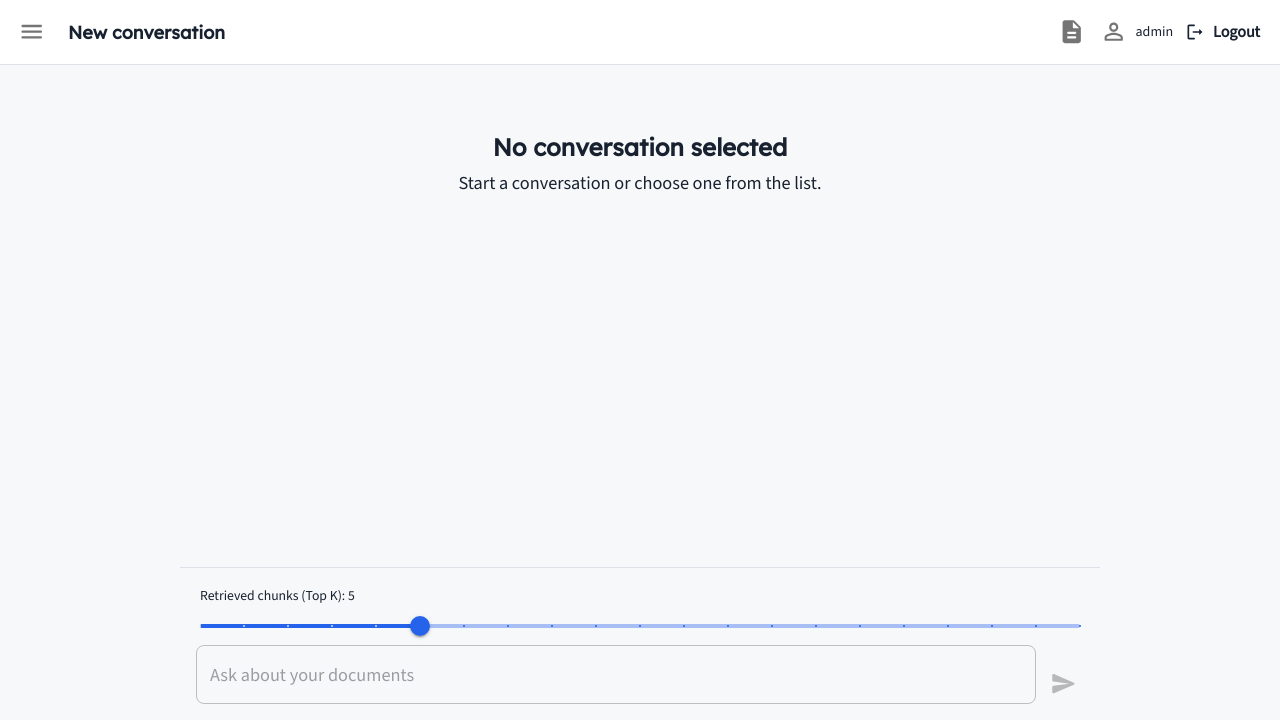
Scenario: authentication flow › expires the UI session when streamed chat setup returns 401
The image size is (1280, 720).
Expected: the text "admin" is shown, [1136,22,1173,42]
Type "Question" into the text box named "Question" at (616, 674), box [210,662,1022,688]
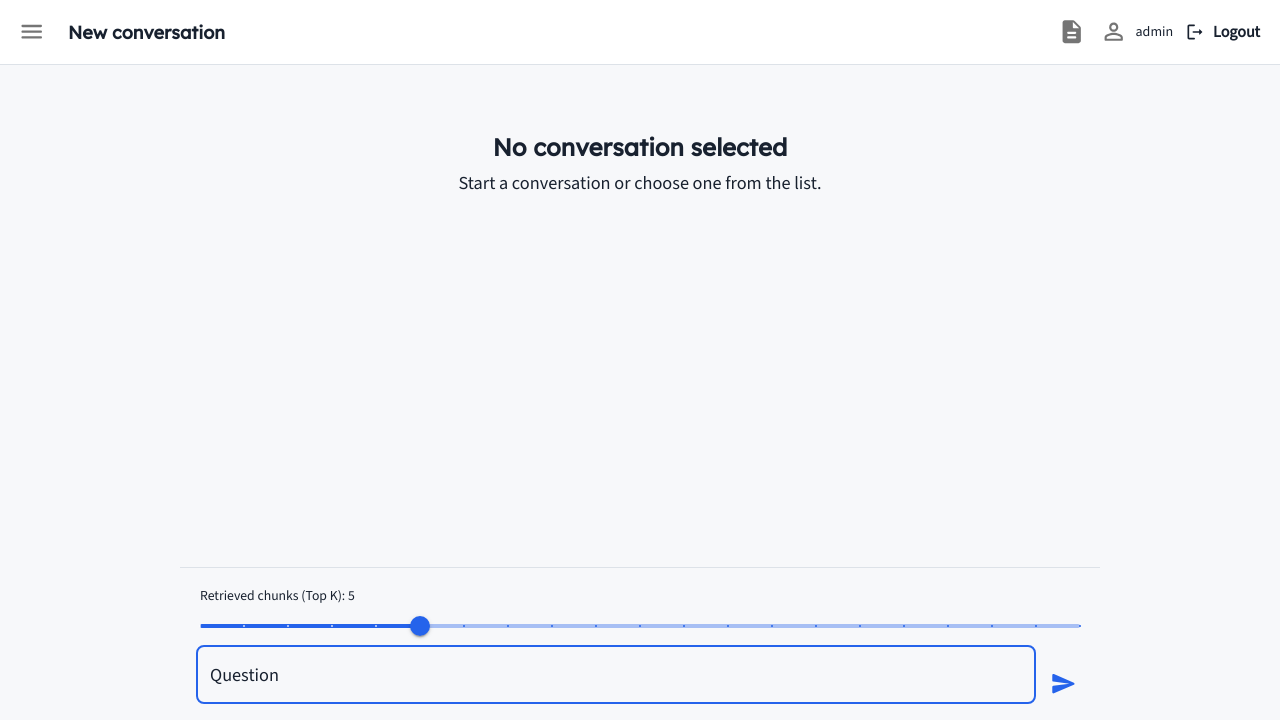
Click the button named "Send message" at (1064, 684), box [1044,664,1084,704]
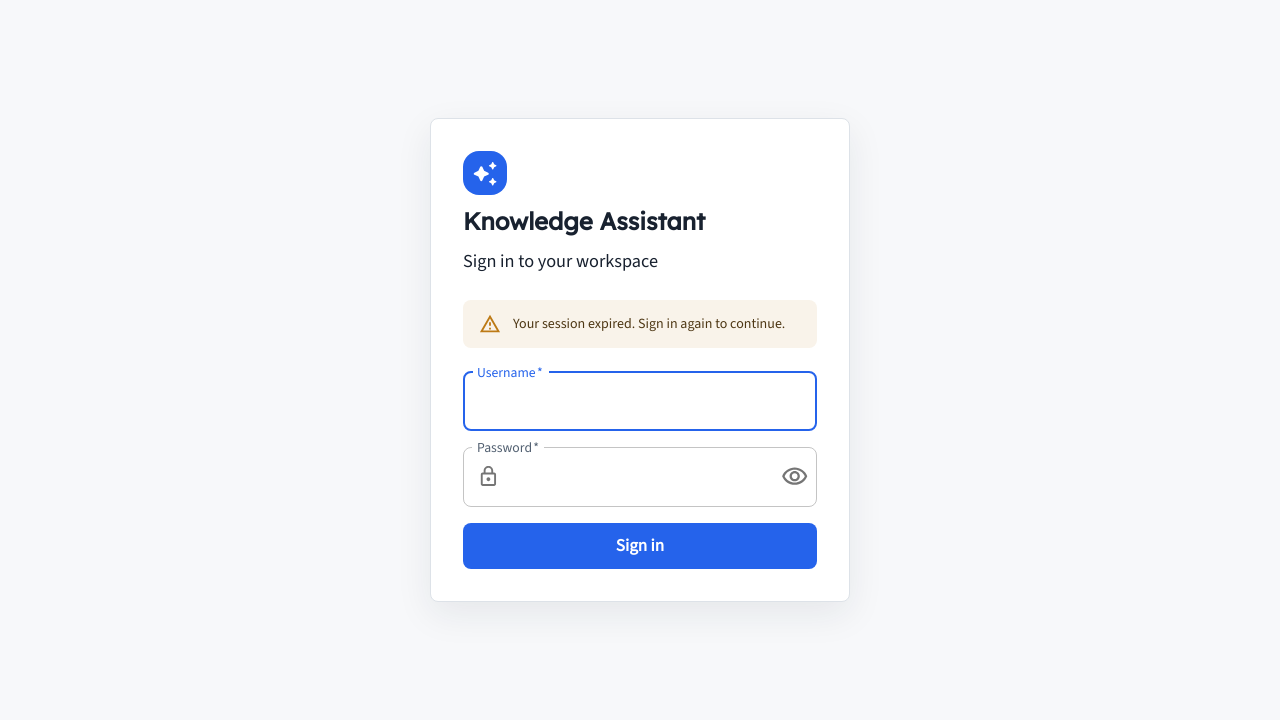
Expected: the button "Sign in" is shown, [463,522,817,568]
